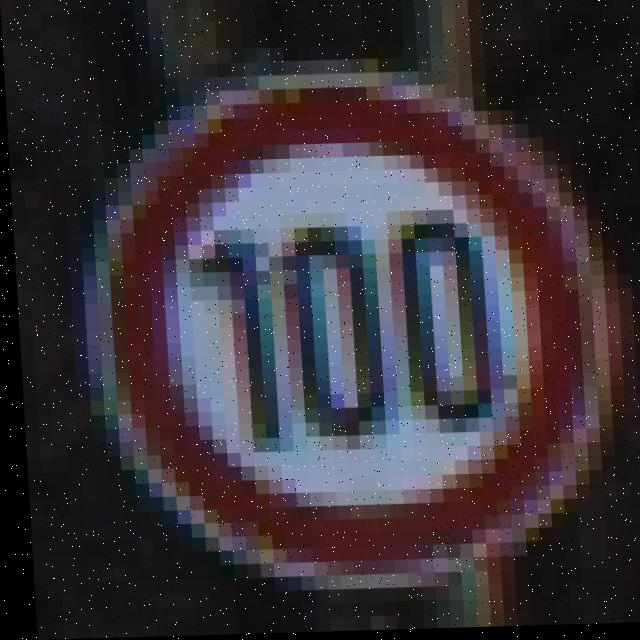speed_limit_100: (108, 70, 614, 576)
